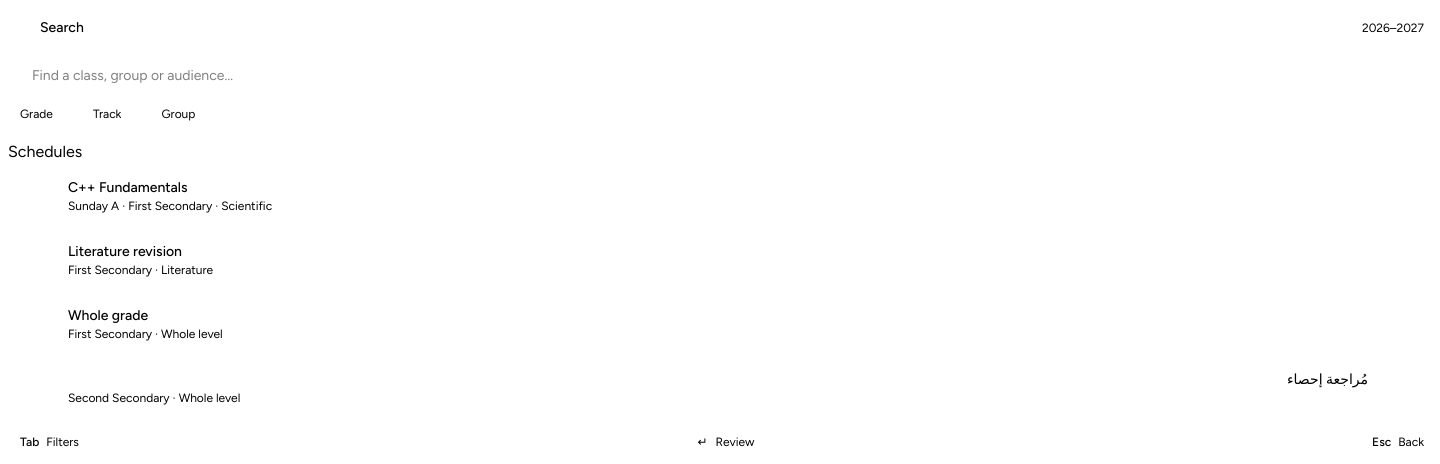
Test: lets typing and Enter choose a schedule without walking through filters
Type "C++" into the dropdown named "Search schedules" at (732, 76), box [32,66,1432,86]
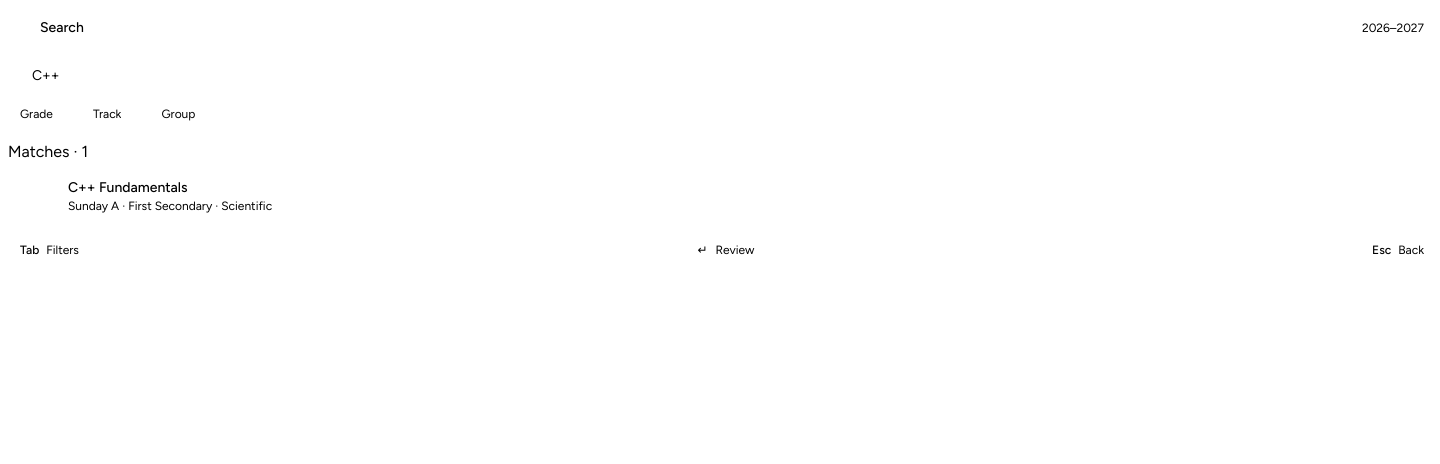
Press Enter in the dropdown named "Search schedules", box [32,66,1432,86]
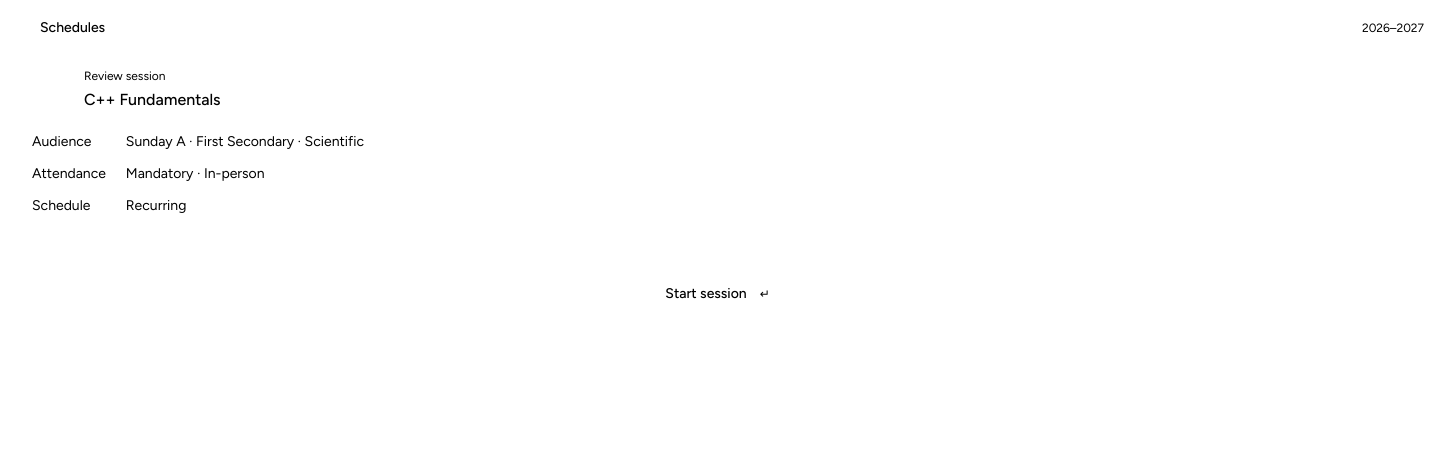
Now the text "Review session" is shown, box [84,69,166,83]
